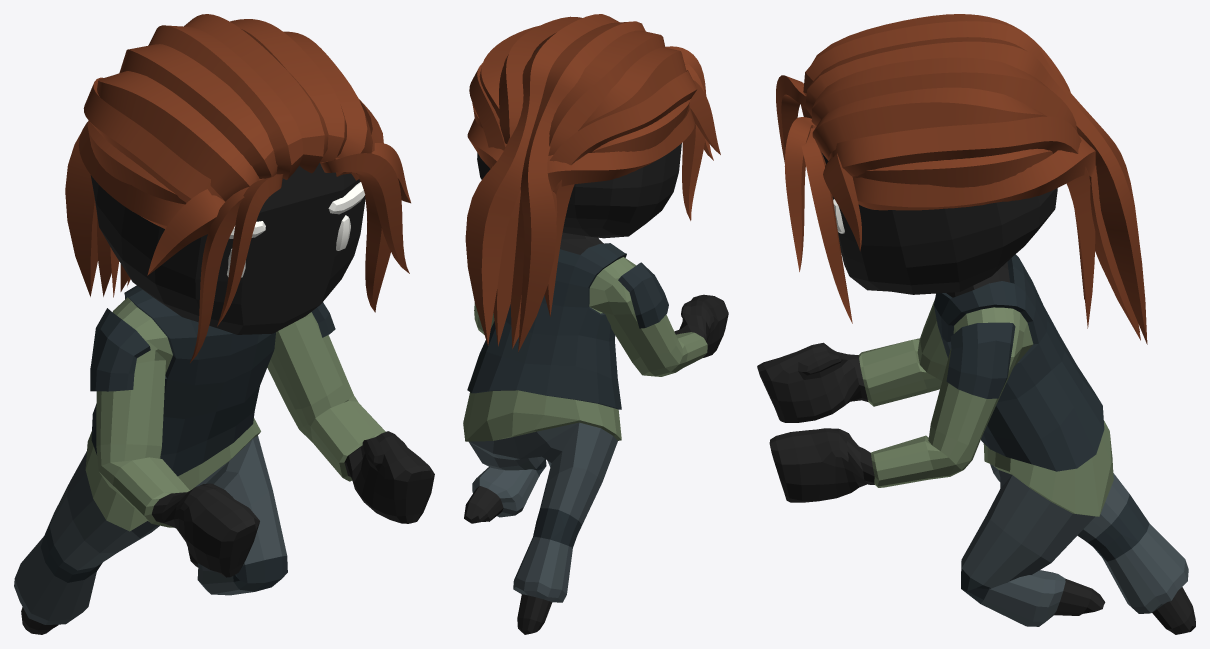
File: tactical-trainee-bravo.glb
3 renders of one model, left to right at view 1: azimuth 30°, elevation 25°; view 2: azimuth 150°, elevation 25°; view 3: azimuth 270°, elevation 25°, orthographic. The views are drawn at different scales.
Parts seen in each view (by area): view 1: Body.001; view 2: Body.001; view 3: Body.001.
Part boxes in pixels (left/top/right/bottom): Body.001: left=14, top=14, right=434, bottom=634; Body.001: left=463, top=14, right=728, bottom=634; Body.001: left=757, top=14, right=1195, bottom=634.
Size of the model in its own units: 1.25 by 2.93 by 1.85.
